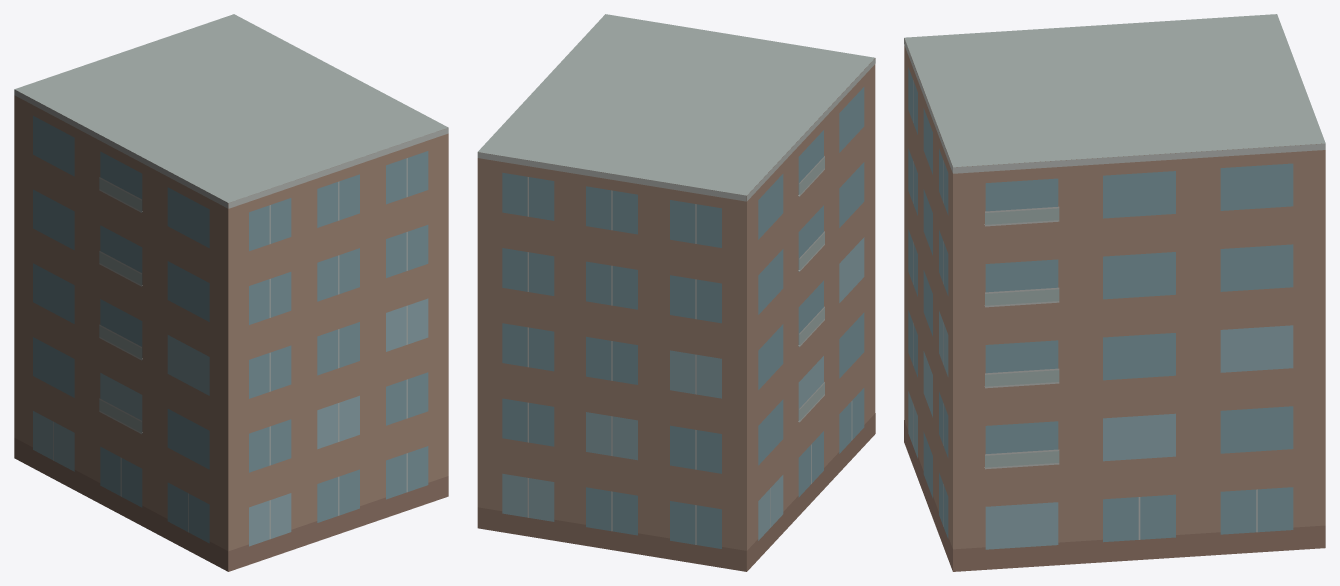
The model's file is survey-upis-32734486.glb.
The picture shows the model from 3 angles, left to right: view 1: azimuth 30°, elevation 25°; view 2: azimuth 150°, elevation 25°; view 3: azimuth 270°, elevation 25°; orthographic projection. The views are drawn at different scales.
Parts seen in each view (by area): view 1: survey-upis-32734486.tmp; view 2: survey-upis-32734486.tmp; view 3: survey-upis-32734486.tmp.
Part boxes in pixels (<box>): survey-upis-32734486.tmp: <box>14,14,448,571</box>; survey-upis-32734486.tmp: <box>477,14,875,571</box>; survey-upis-32734486.tmp: <box>904,14,1325,571</box>.
Bounding box in the file's own units: 12.4 × 15.25 × 14.41.
